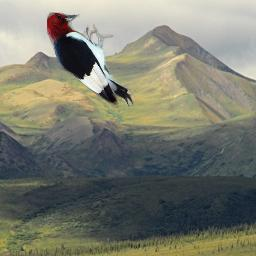Woodpecker: (47, 12, 136, 108)
